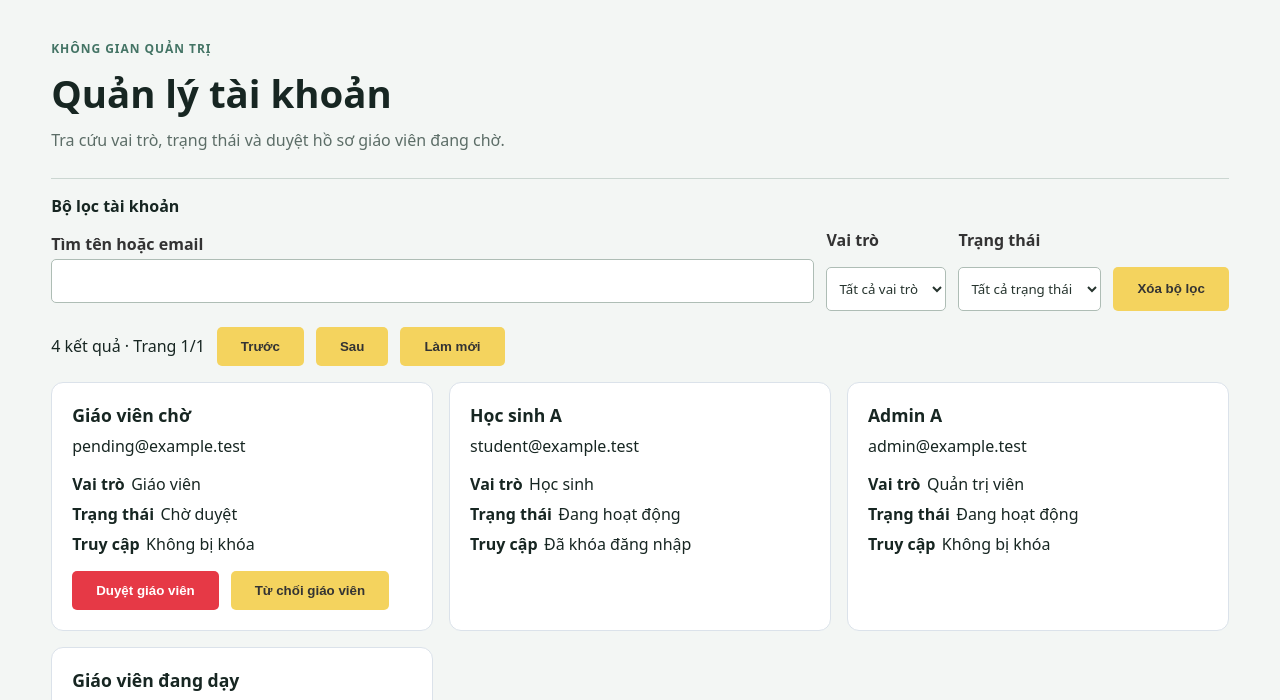
it: xung đột 409 đóng form, tải lại và không tự ghi lần hai
The width and height of the screenshot is (1280, 700).
Click the button "Duyệt giáo viên" at (145, 590), box [72,571,219,610]
(page scrolled)
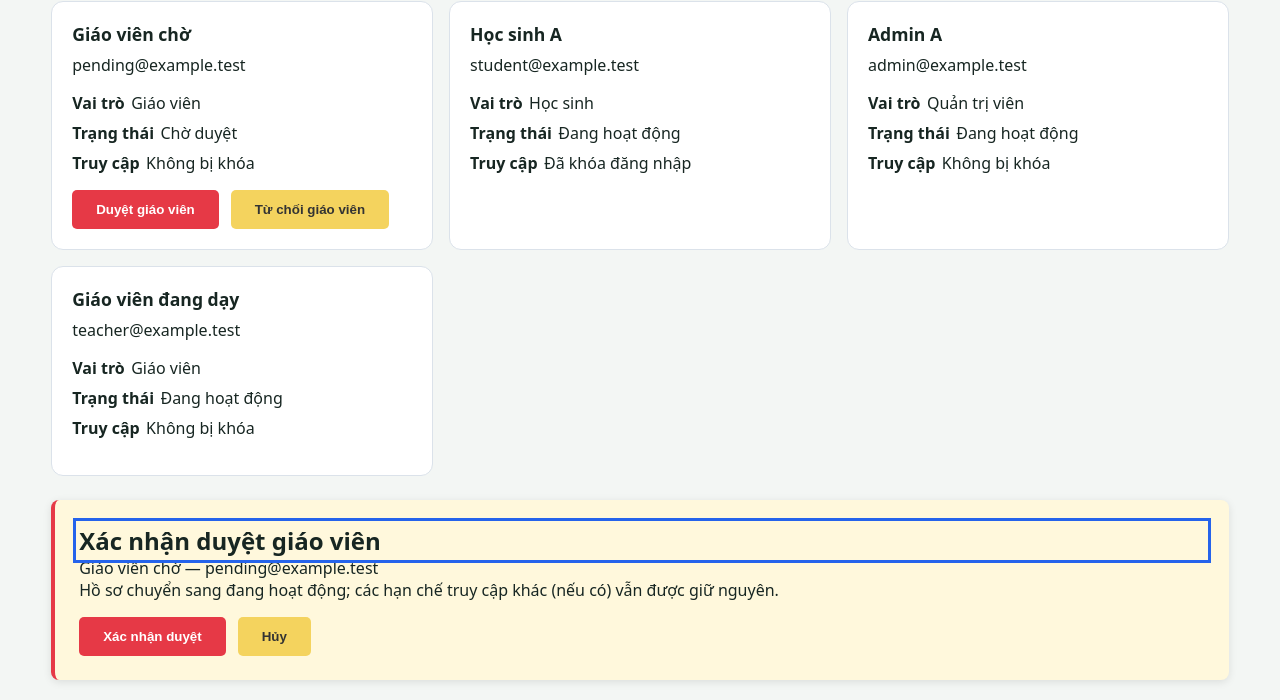
Submit the form, box [79,617,311,656]
(page scrolled)
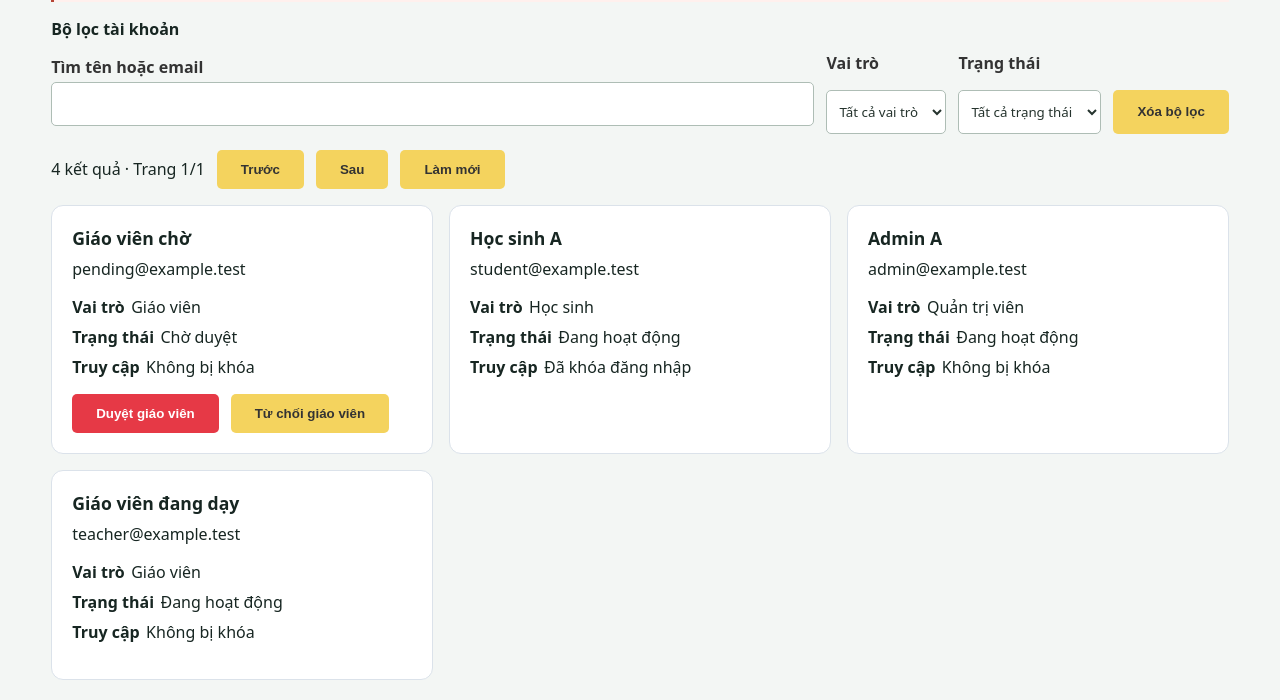
Expected: the form is gone
